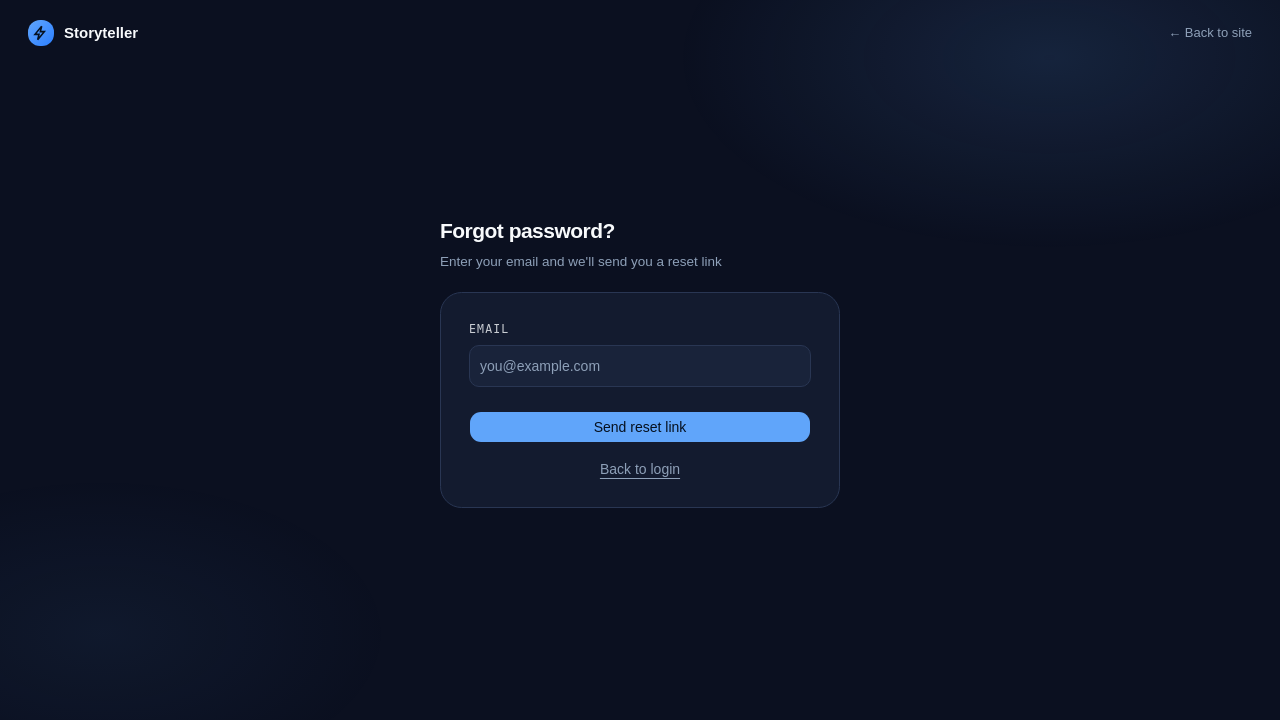
it: ForgotPasswordPage › shows unexpected error on exception
Type "a@b.com" into the field labelled "Email" at (640, 366), box [469,344,811,386]
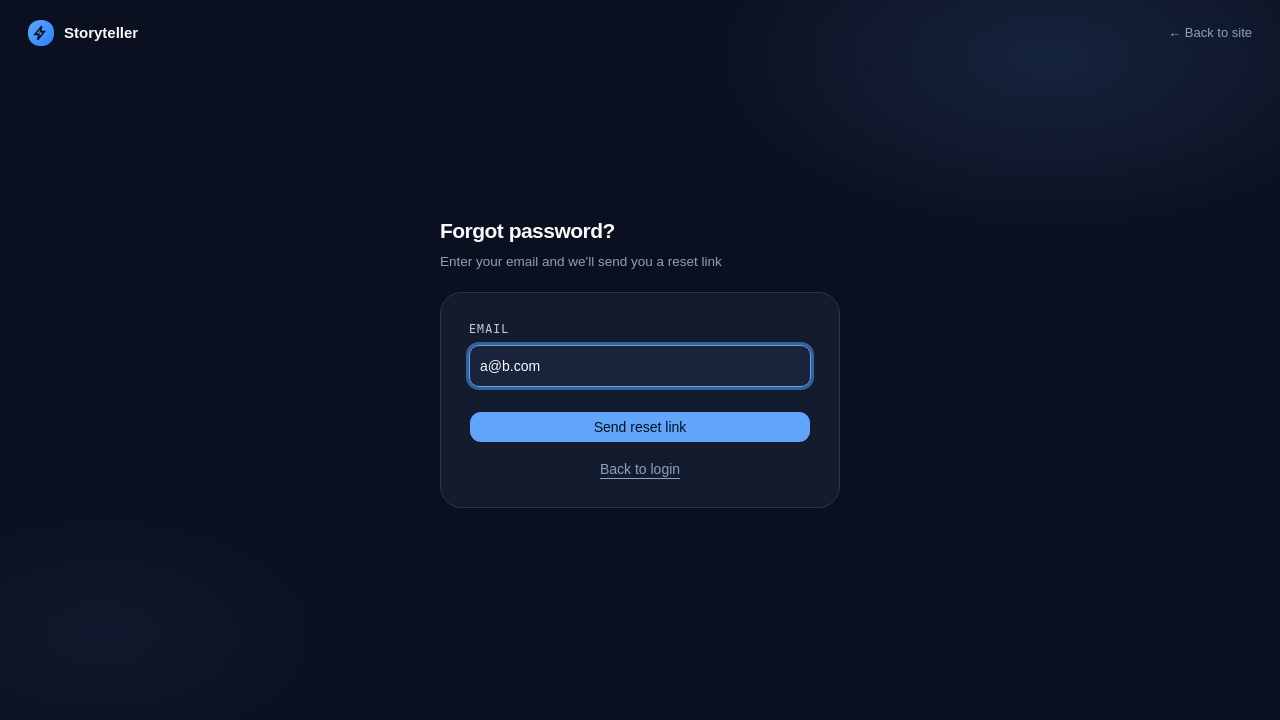
Click the button "Send reset link" at (640, 426), box [469,410,811,442]
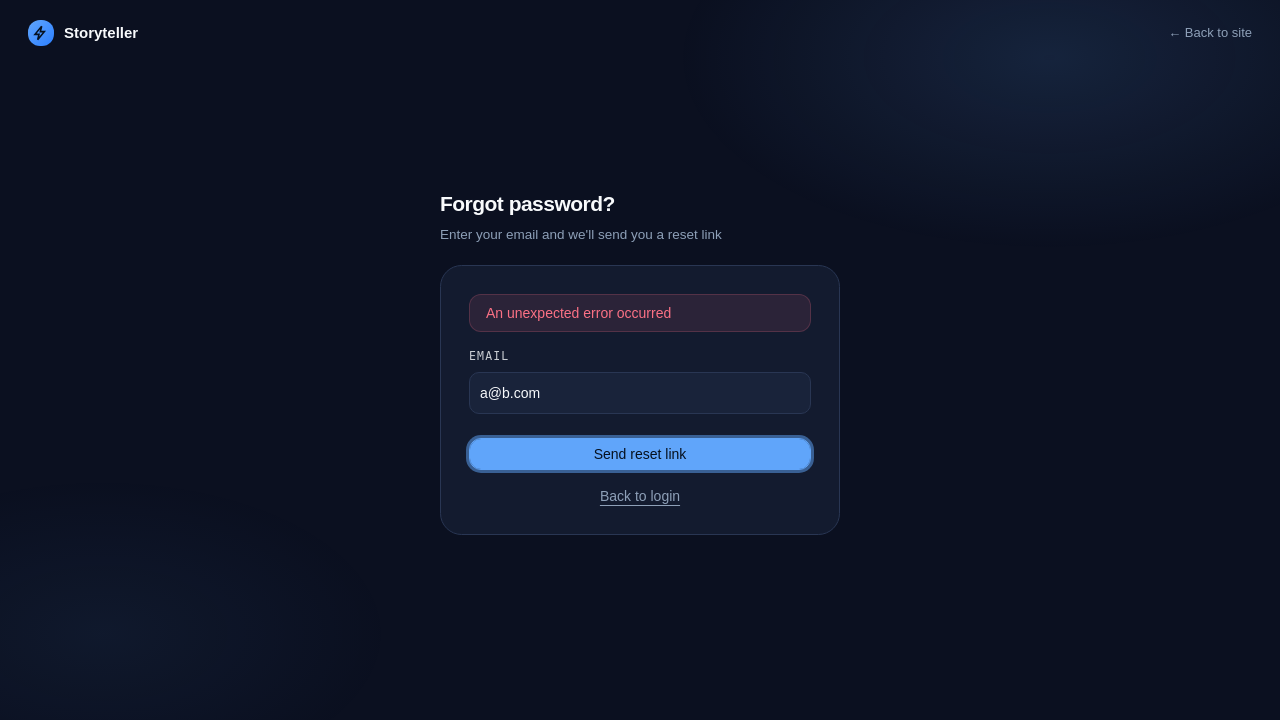
Expected: the text "An unexpected error occurred" is shown, [469,294,811,332]
